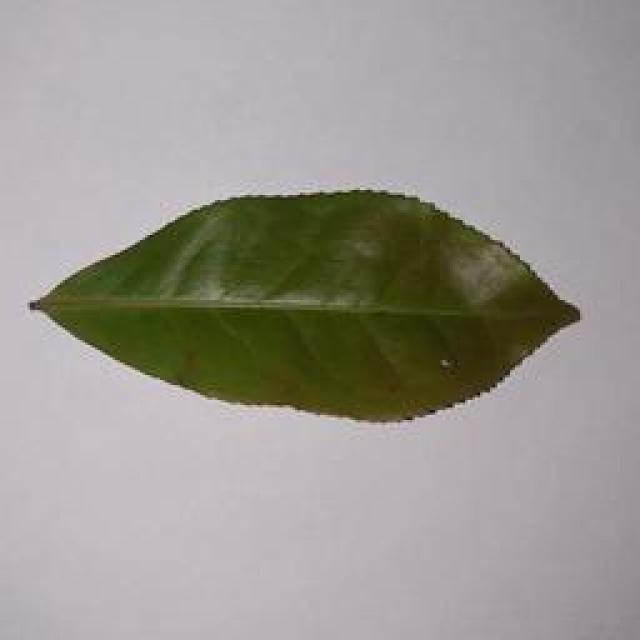Red Leaf Spot: (9, 173, 588, 430)
